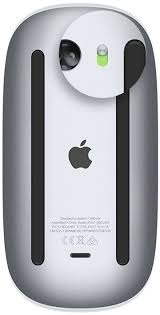mouse: (2, 2, 160, 315)
